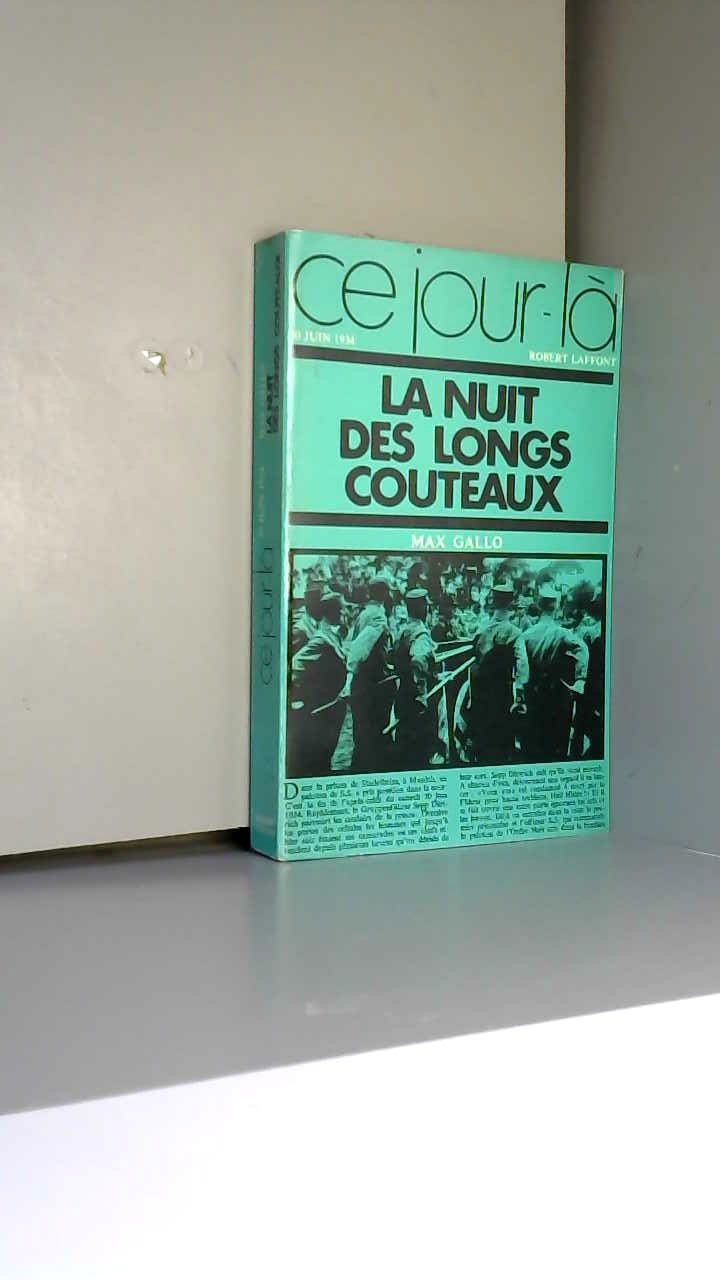book: (220, 200, 719, 892)
